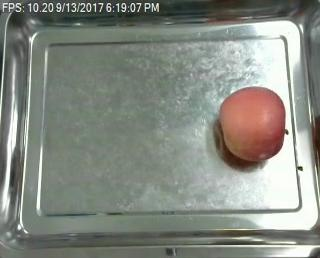apple: (219, 85, 289, 165)
